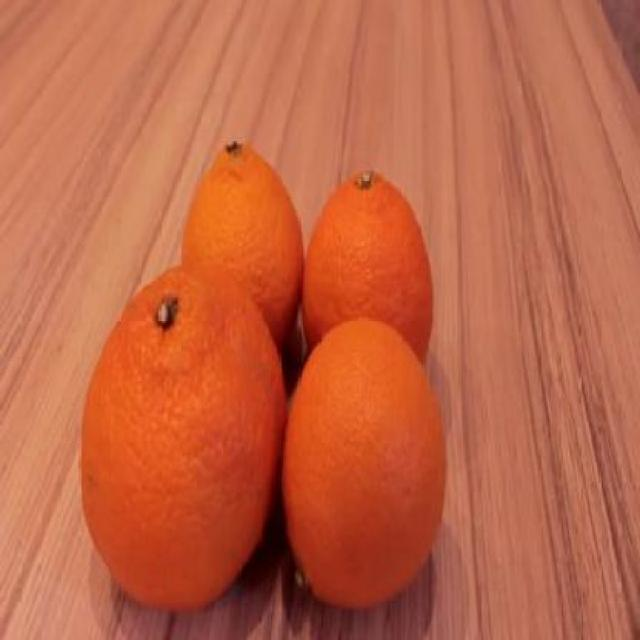Jeruk Sudah Matang: (78, 268, 287, 617), (284, 318, 446, 602), (298, 178, 436, 406), (174, 142, 304, 375)
